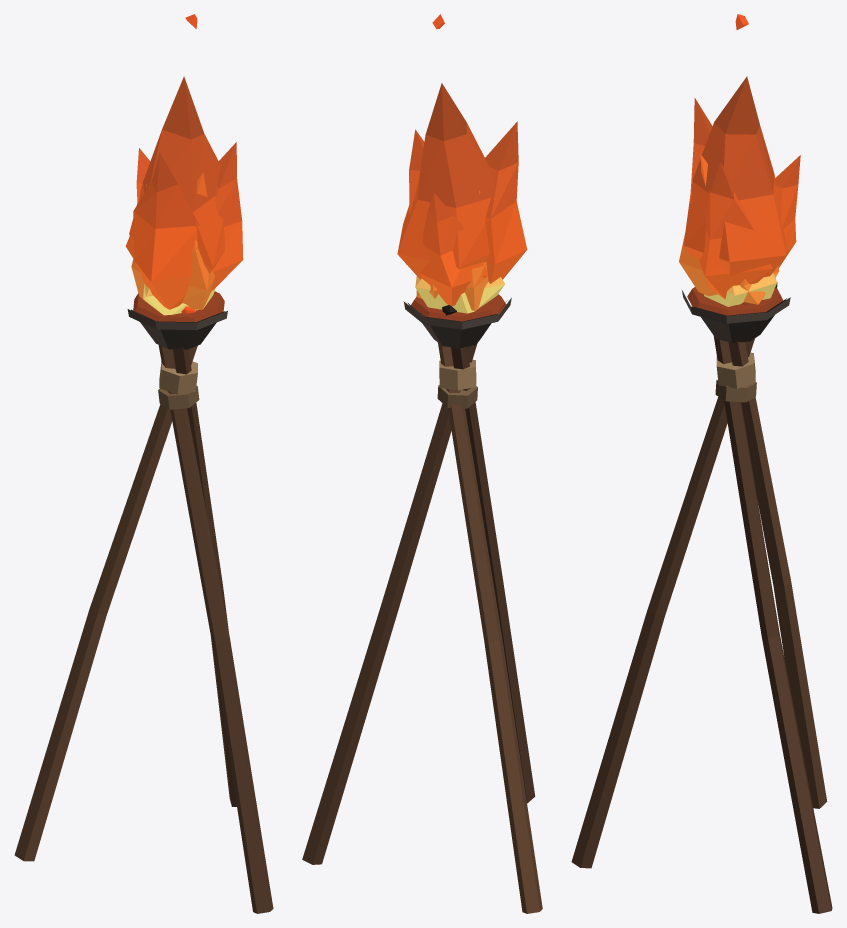
The model's file is tl_fx_torch_tripod_v01.glb.
The picture shows the model from 3 angles, left to right: view 1: azimuth 30°, elevation 25°; view 2: azimuth 150°, elevation 25°; view 3: azimuth 270°, elevation 25°; orthographic projection. The views are drawn at different scales.
Visible parts, largest first — view 1: tl_fx_torch_tripod_v01, flames; view 2: tl_fx_torch_tripod_v01, flames; view 3: tl_fx_torch_tripod_v01, flames.
Boxes of the visible parts, x1=… form: tl_fx_torch_tripod_v01: x1=14, y1=291, x2=273, y2=913; flames: x1=125, y1=14, x2=243, y2=315; tl_fx_torch_tripod_v01: x1=302, y1=294, x2=542, y2=913; flames: x1=397, y1=14, x2=527, y2=313; tl_fx_torch_tripod_v01: x1=571, y1=282, x2=832, y2=913; flames: x1=679, y1=14, x2=800, y2=306.
Bounding box in the file's own units: 0.8991 × 3.07 × 0.8485.
